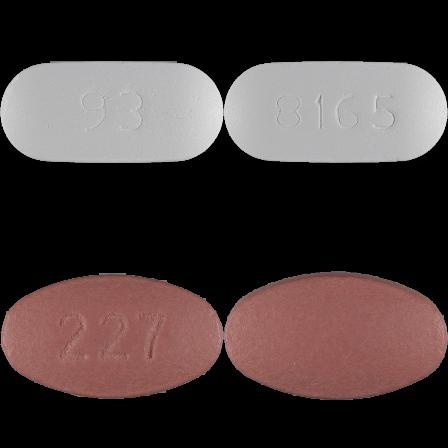61786-841: (0, 0, 224, 224)
